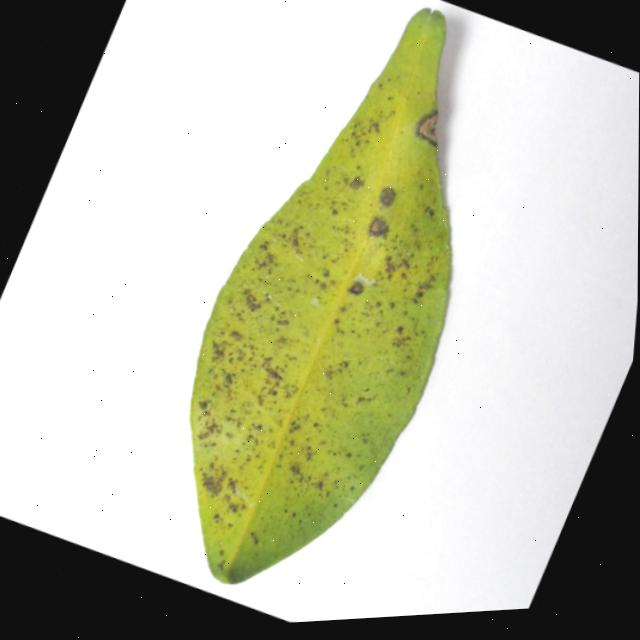melanose: (190, 7, 450, 582)
